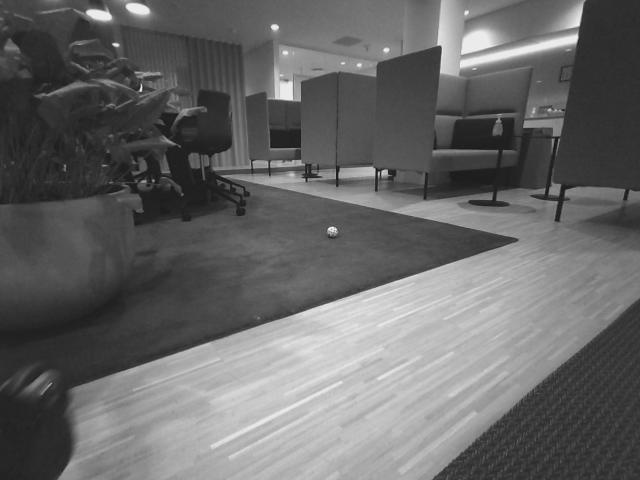dogtoy: (322, 223, 342, 241)
